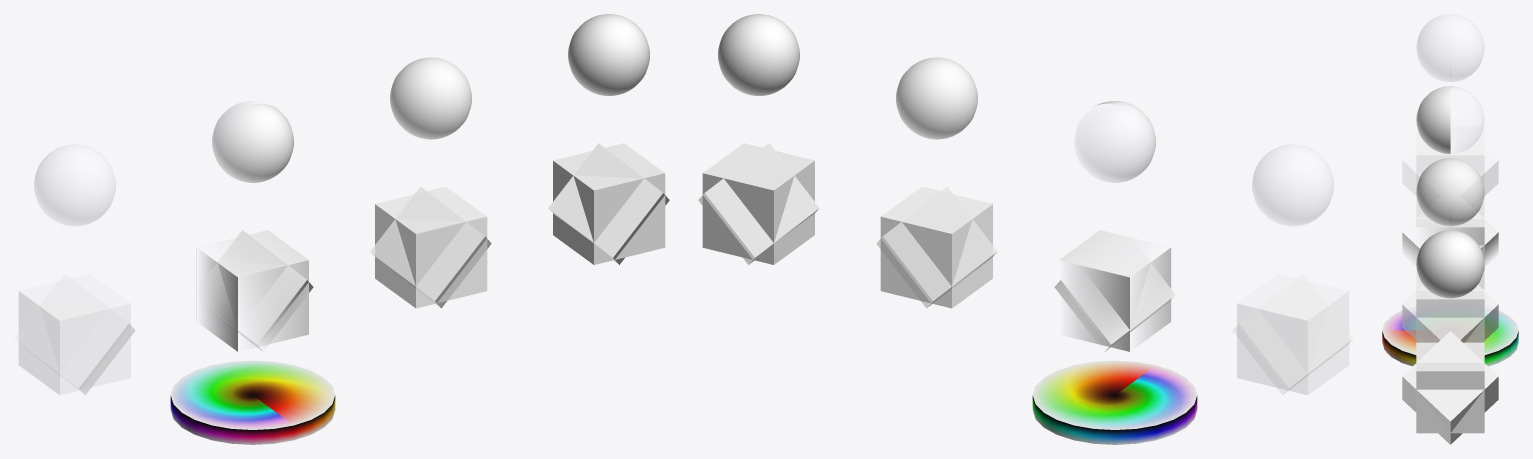
Rendered from opacity.gltf.
3 renders of one model, left to right at view 1: azimuth 30°, elevation 25°; view 2: azimuth 150°, elevation 25°; view 3: azimuth 270°, elevation 25°, orthographic. The views are drawn at different scales.
Parts seen in each view (by area): view 1: cube (×4), diamond (×4), sphere (×4), base; view 2: cube (×4), diamond (×4), sphere (×4), base; view 3: sphere (×4), diamond (×4), cube (×4), base.
Boxes of the visible parts, bbox=[...] form: cube (×4): bbox=[19, 143, 665, 394]; diamond (×4): bbox=[15, 143, 669, 394]; sphere (×4): bbox=[34, 14, 649, 225]; base: bbox=[170, 360, 335, 444]; cube (×4): bbox=[702, 143, 1348, 394]; diamond (×4): bbox=[698, 143, 1352, 394]; sphere (×4): bbox=[718, 14, 1333, 225]; base: bbox=[1032, 360, 1197, 444]; sphere (×4): bbox=[1416, 14, 1484, 298]; diamond (×4): bbox=[1402, 116, 1498, 444]; cube (×4): bbox=[1416, 126, 1484, 433]; base: bbox=[1382, 306, 1518, 366].
Size of what is drawn, in the model's own units: 4.6 by 2.05 by 1.
5 materials, 2 textured.
